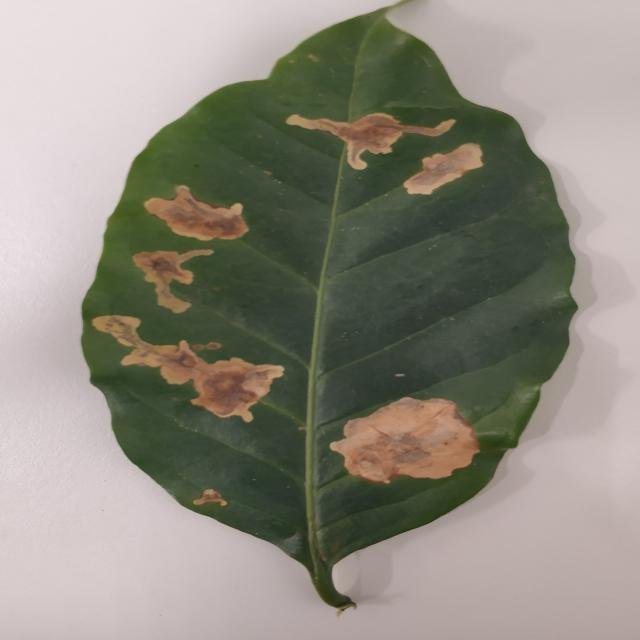Plaga-Minador: (79, 11, 578, 610)
